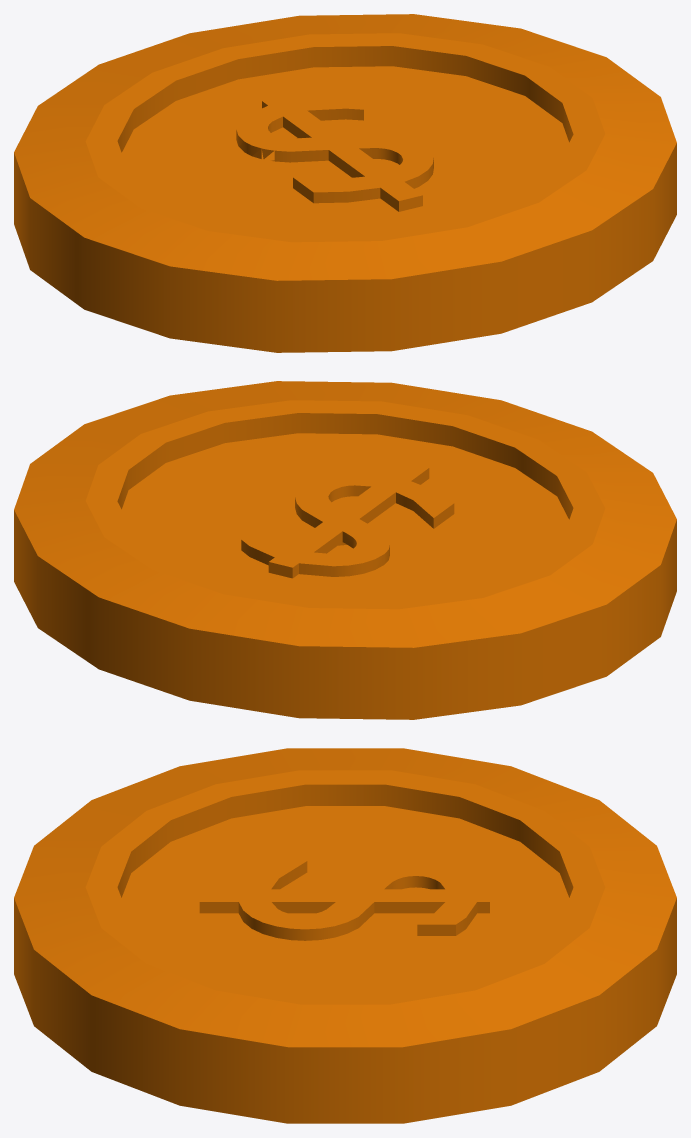
File: coin_new.glb
3 views of the same model, one above another, from view 1: azimuth 30°, elevation 25°; view 2: azimuth 150°, elevation 25°; view 3: azimuth 270°, elevation 25° (orthographic). The views are drawn at different scales.
Visible parts, largest first — view 1: Coin_new; view 2: Coin_new; view 3: Coin_new.
Part boxes in pixels (left/top/right/bottom): Coin_new: left=14, top=14, right=676, bottom=352; Coin_new: left=14, top=381, right=676, bottom=719; Coin_new: left=14, top=748, right=676, bottom=1123.
Bounding box in the file's own units: 1.97 × 0.2987 × 1.85.
